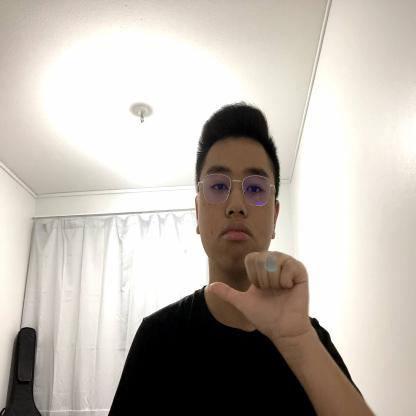right: (209, 250, 322, 339)
